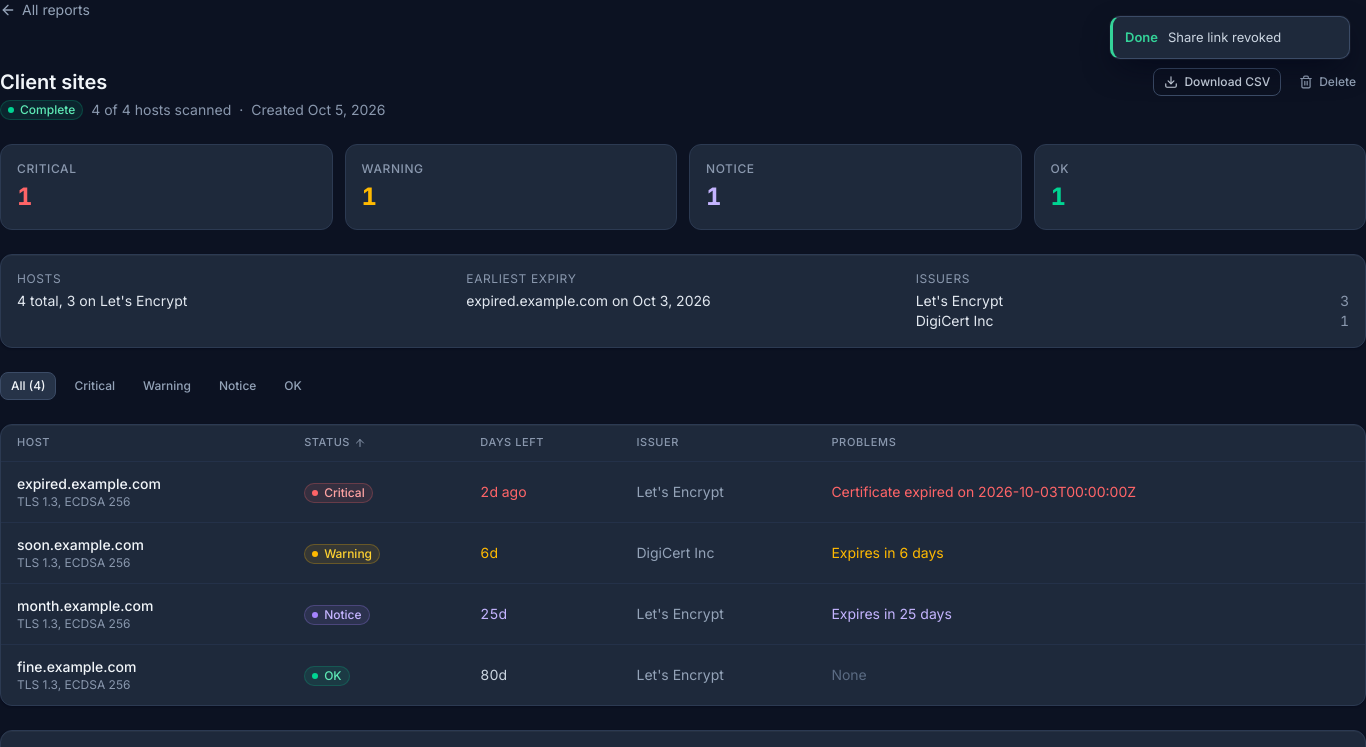
Test case: ReportDetail › deletes after confirmation
Click the button "Delete" at (1328, 82), box [1289, 68, 1365, 96]
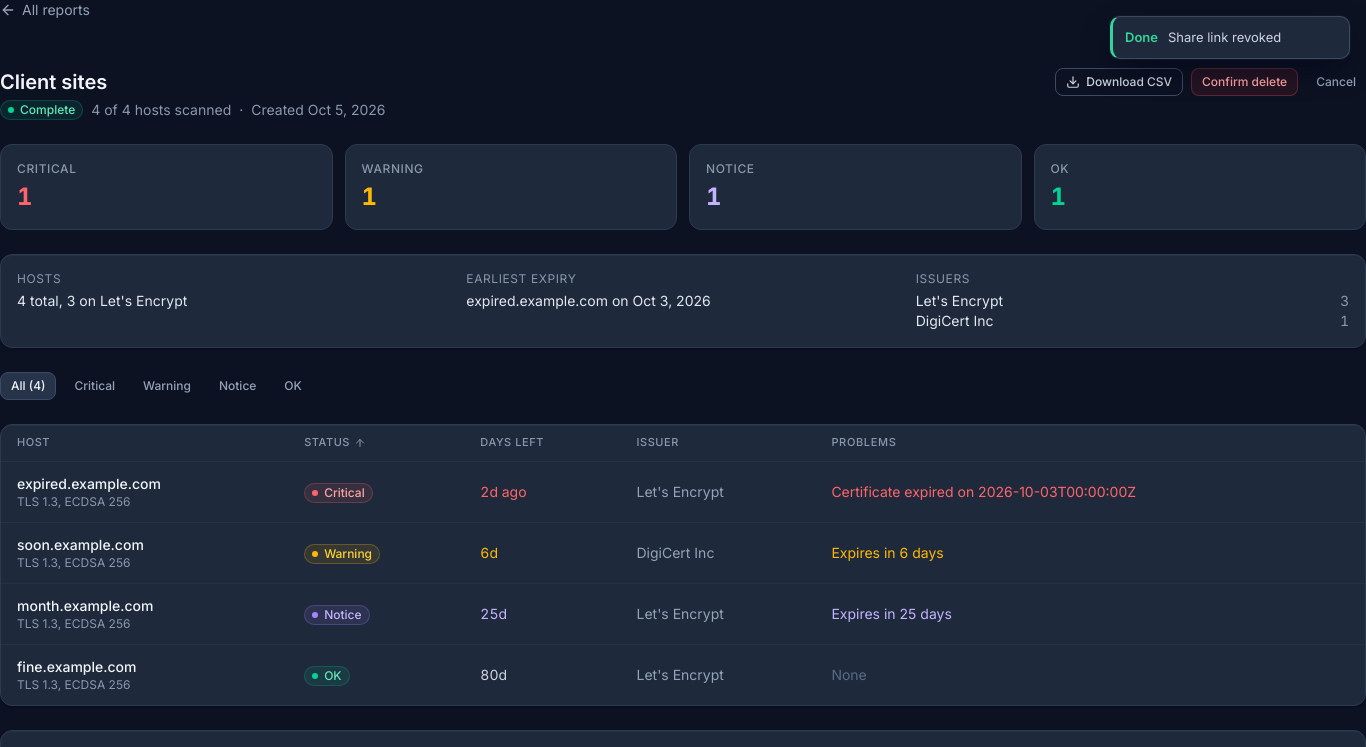
Click the button "Confirm delete" at (1245, 82), box [1191, 68, 1298, 96]
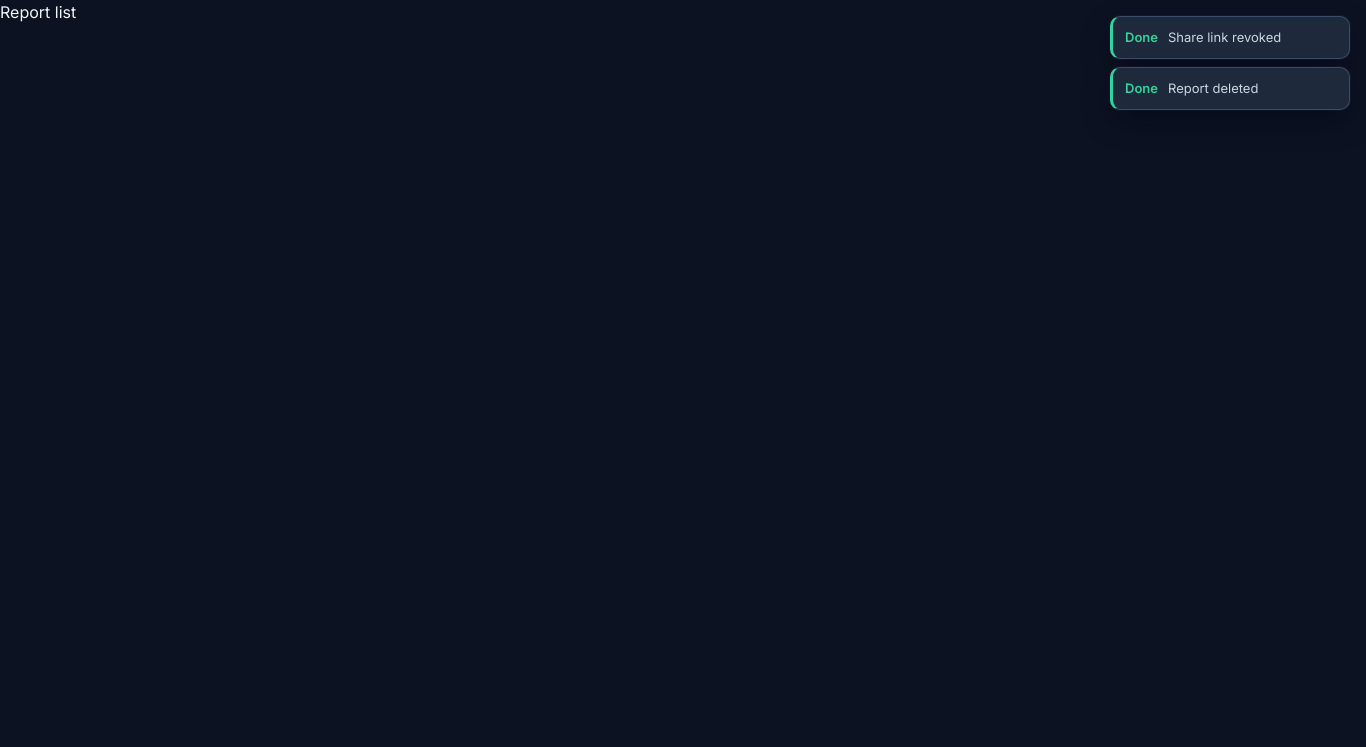
Expected: the text "Report list" is shown, [0, 2, 76, 22]
